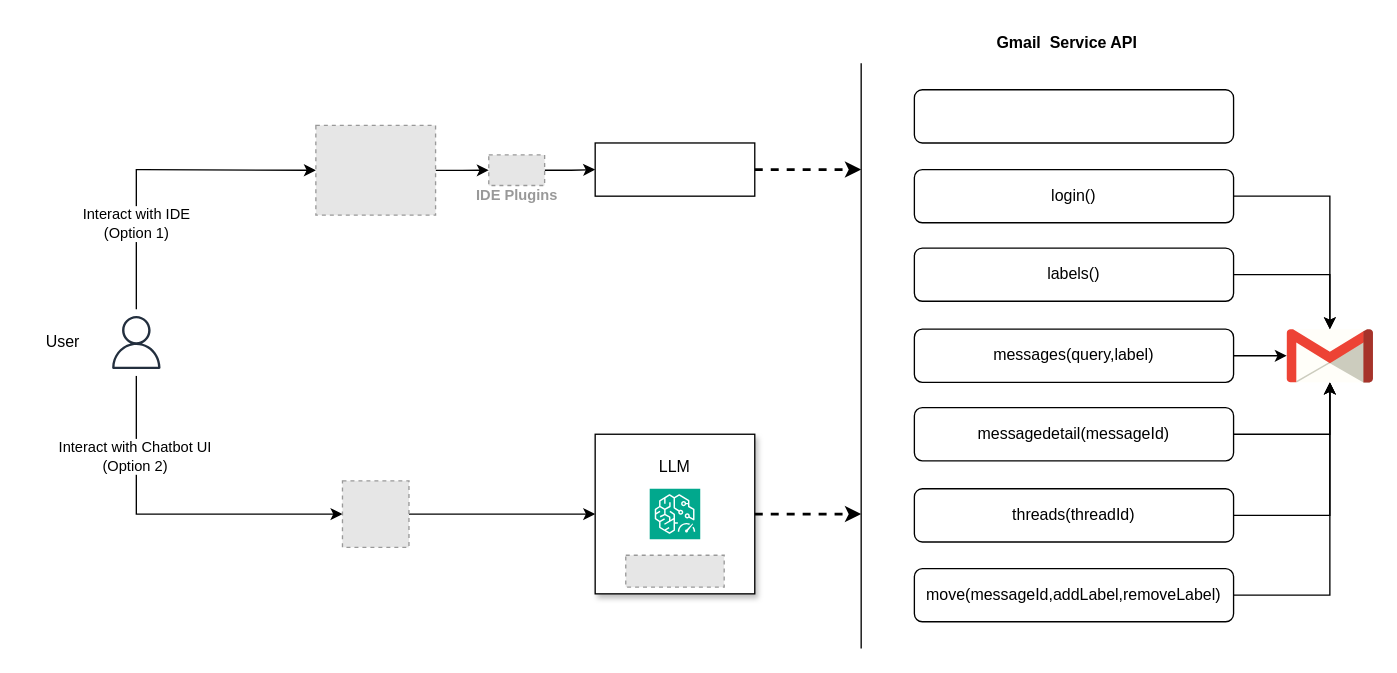
Some shapes in this 1397 by 673 pixel diagram are drawn without their labels. Grey dashed boxes stand in for pictures. The shapes that lost their labels are listed below. From the top down, each one's centre as x and y in pixels, then its label:
At point 1073,115: "echo(any)".
At point 674,169: "MCP Server".
